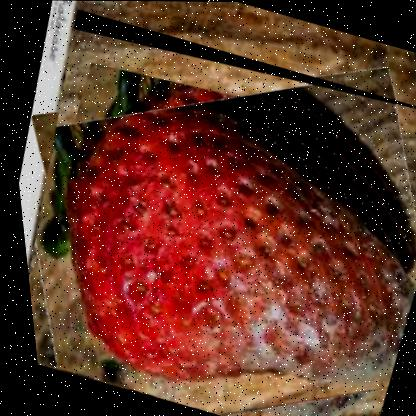strawberry_rotten: (0, 9, 415, 415)
